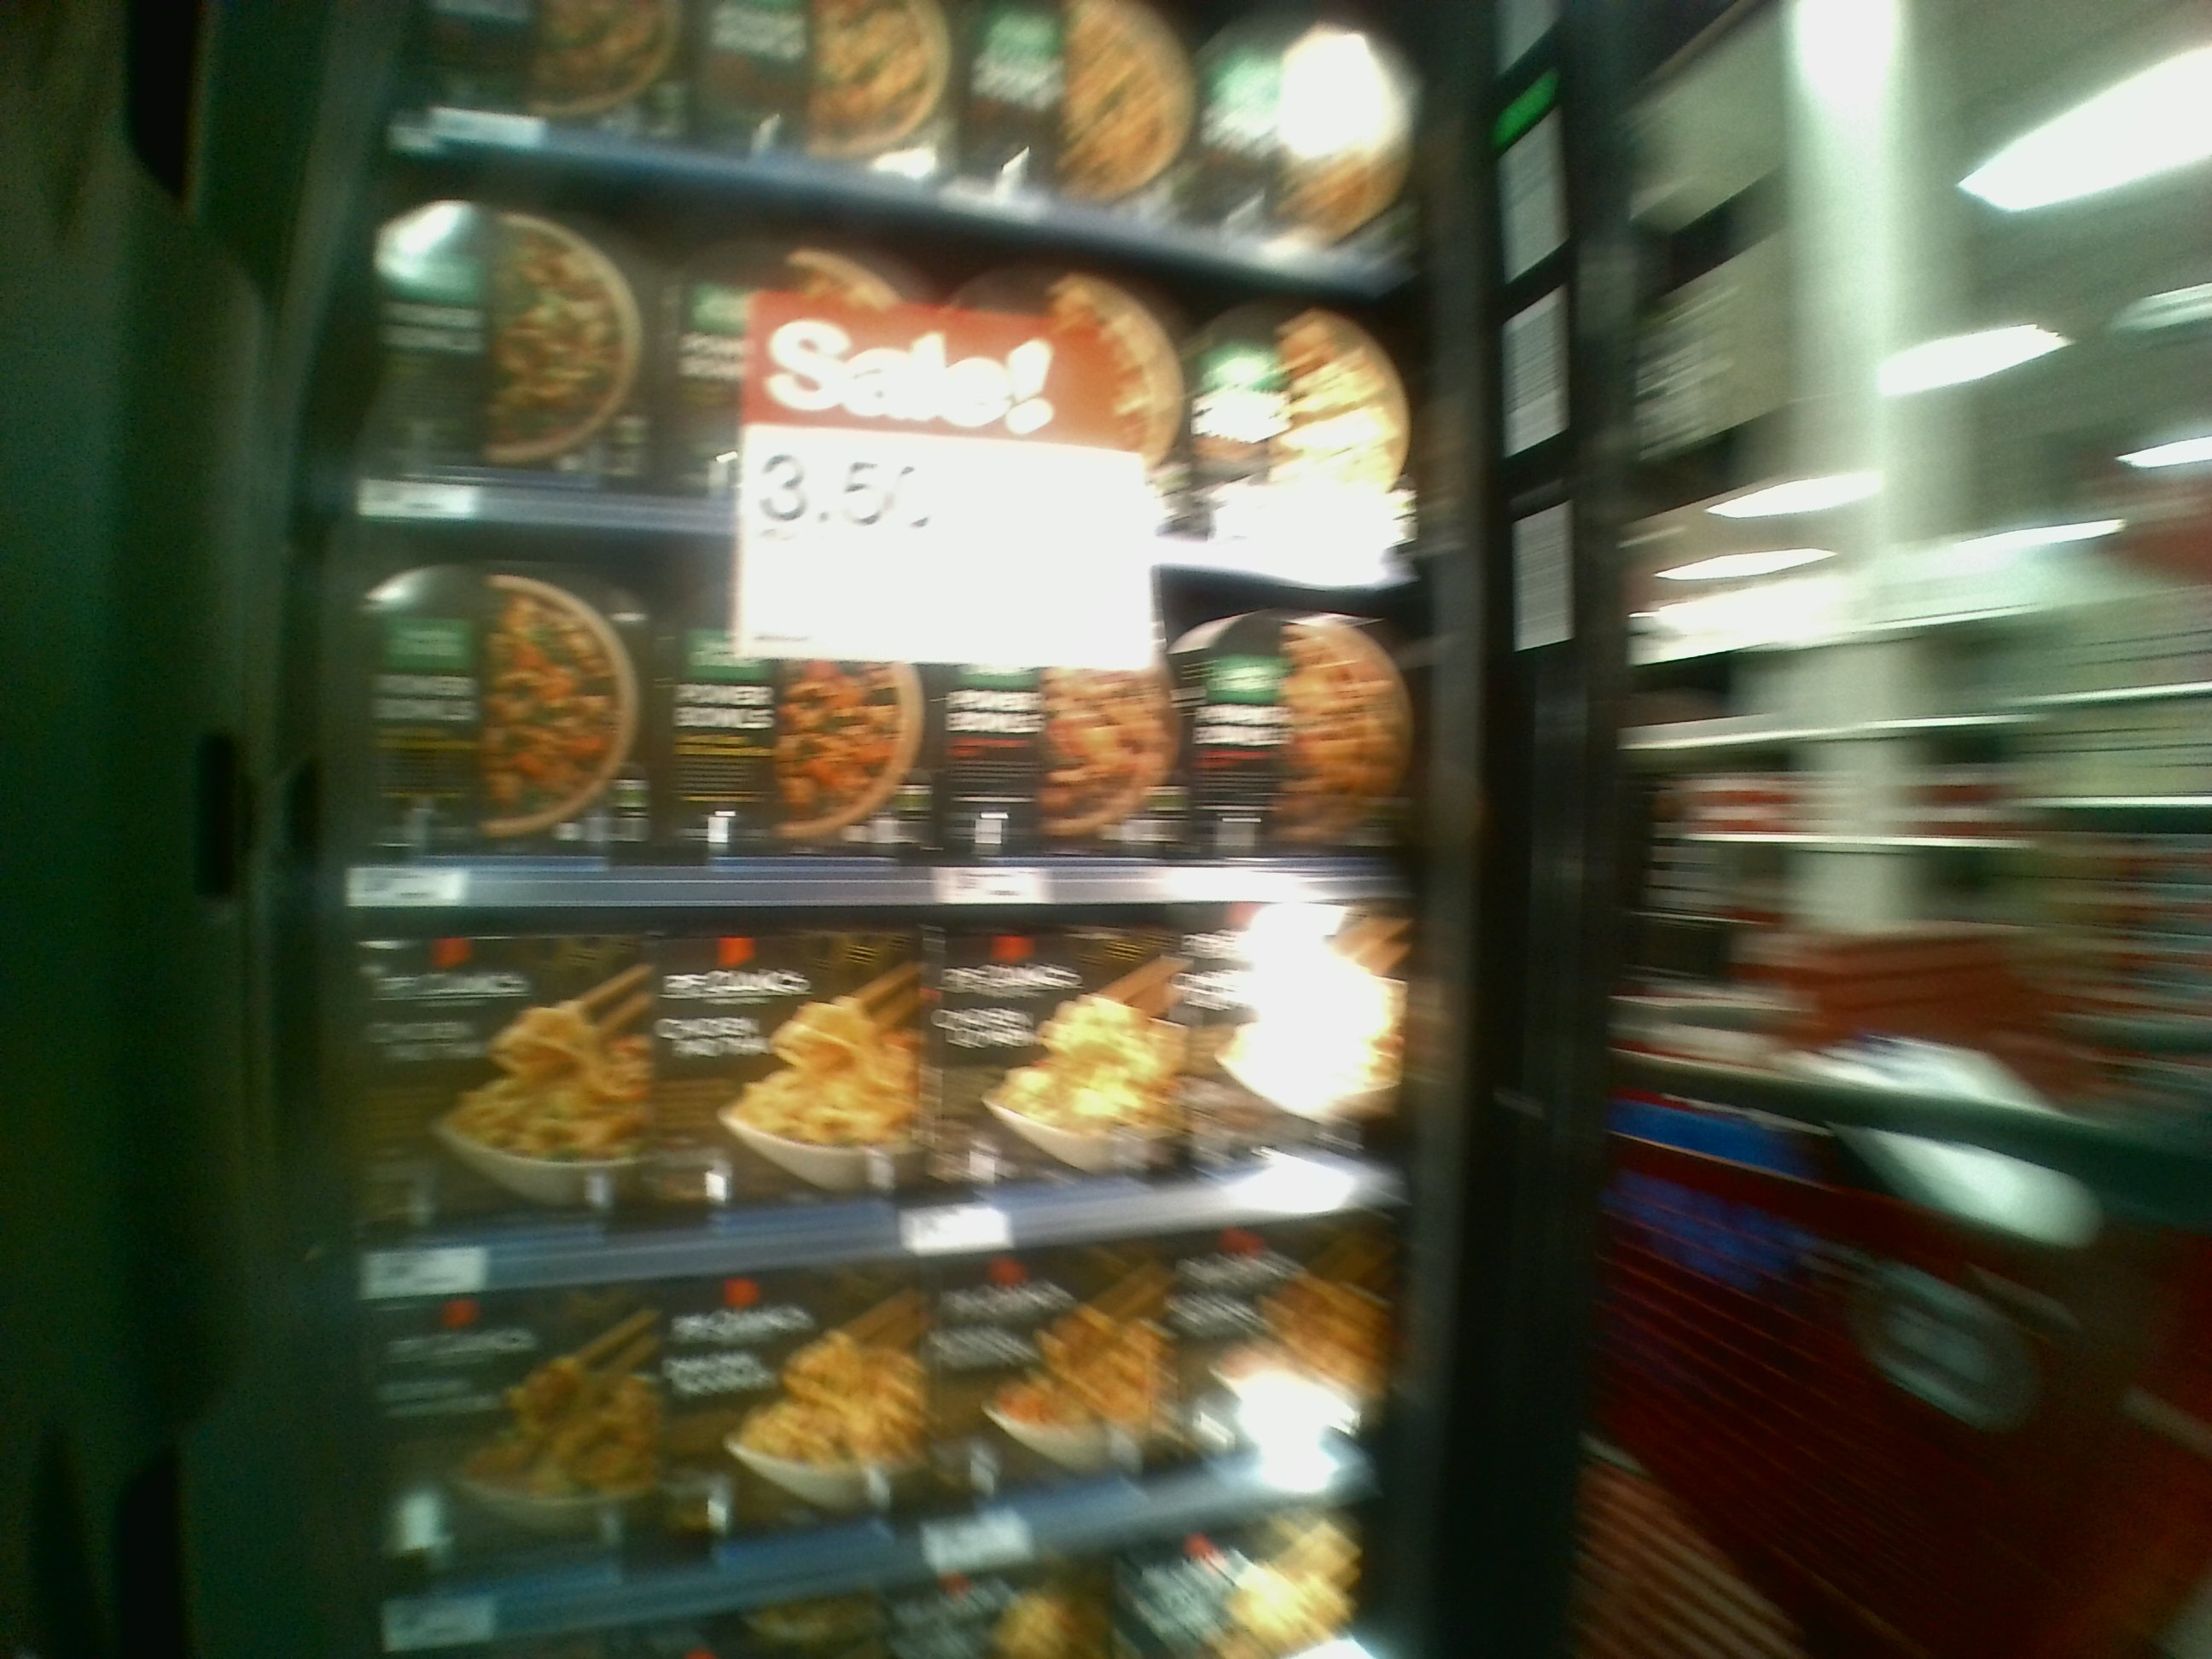shelf: (331, 526, 1407, 918)
